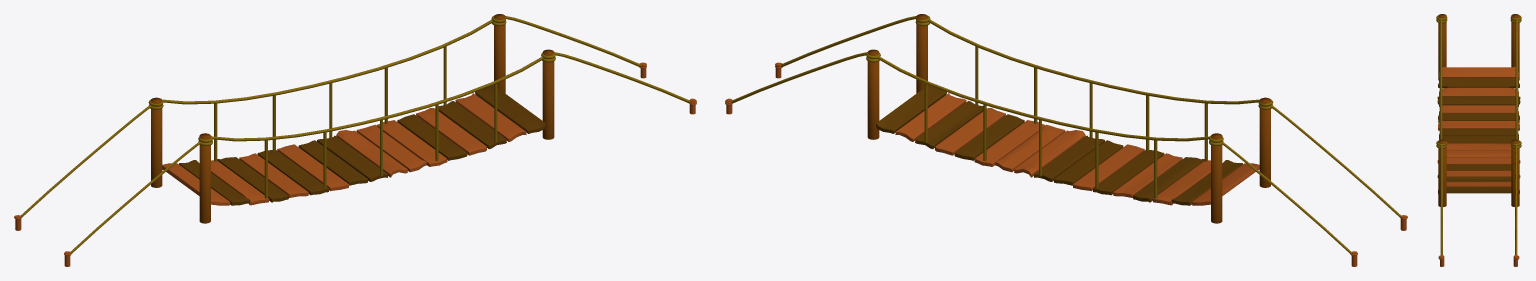
File: bridge 1 .fbx
3 views of the same model, side by side, from view 1: azimuth 30°, elevation 25°; view 2: azimuth 150°, elevation 25°; view 3: azimuth 270°, elevation 25° (orthographic). The views are drawn at different scales.
Visible parts, largest first — view 1: Cube.004; view 2: Cube.004; view 3: Cube.004.
Part boxes in pixels (left/top/right/bottom): Cube.004: left=14, top=14, right=696, bottom=266; Cube.004: left=725, top=14, right=1407, bottom=266; Cube.004: left=1436, top=14, right=1521, bottom=266.
Bounding box in the file's own units: 1911 × 278 × 299.
